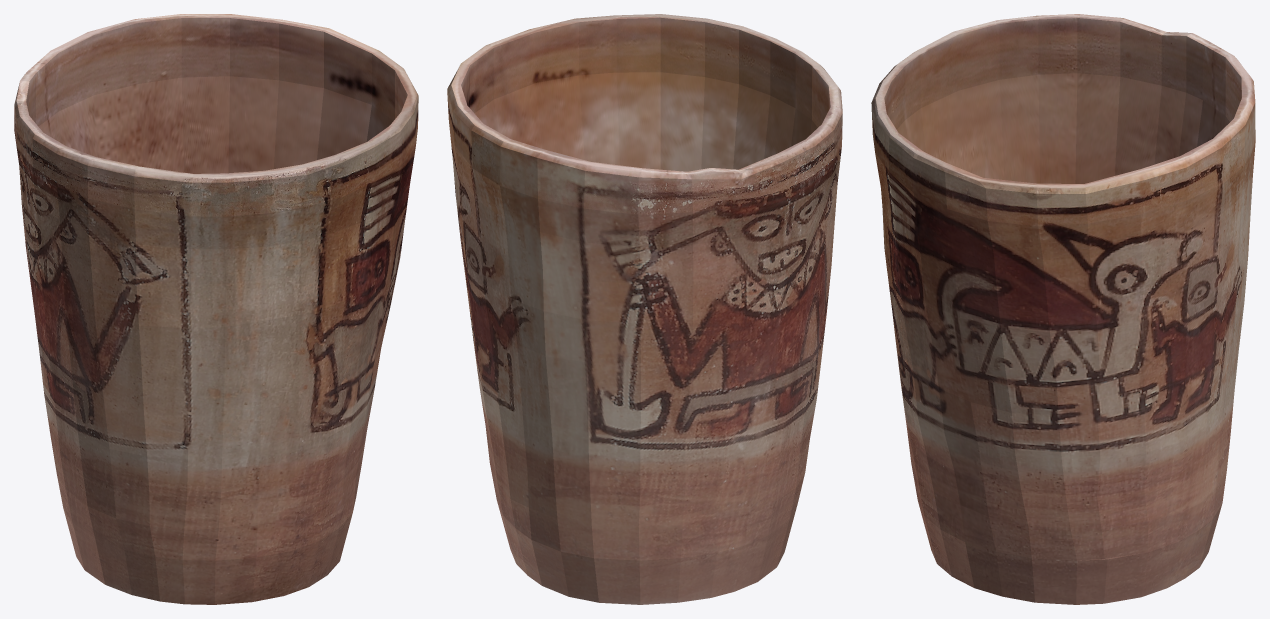
Rendered from chimu2.obj.
3 renders of one model, left to right at view 1: azimuth 30°, elevation 25°; view 2: azimuth 150°, elevation 25°; view 3: azimuth 270°, elevation 25°, orthographic.
Parts seen in each view (by area): view 1: Box001_Malla; view 2: Box001_Malla; view 3: Box001_Malla.
Part boxes in pixels (<box>): Box001_Malla: <box>14,14,418,604</box>; Box001_Malla: <box>447,14,842,604</box>; Box001_Malla: <box>871,14,1255,604</box>.
Bounding box in the file's own units: 0.5964 × 0.7392 × 0.5623.
1 material, 1 textured.
